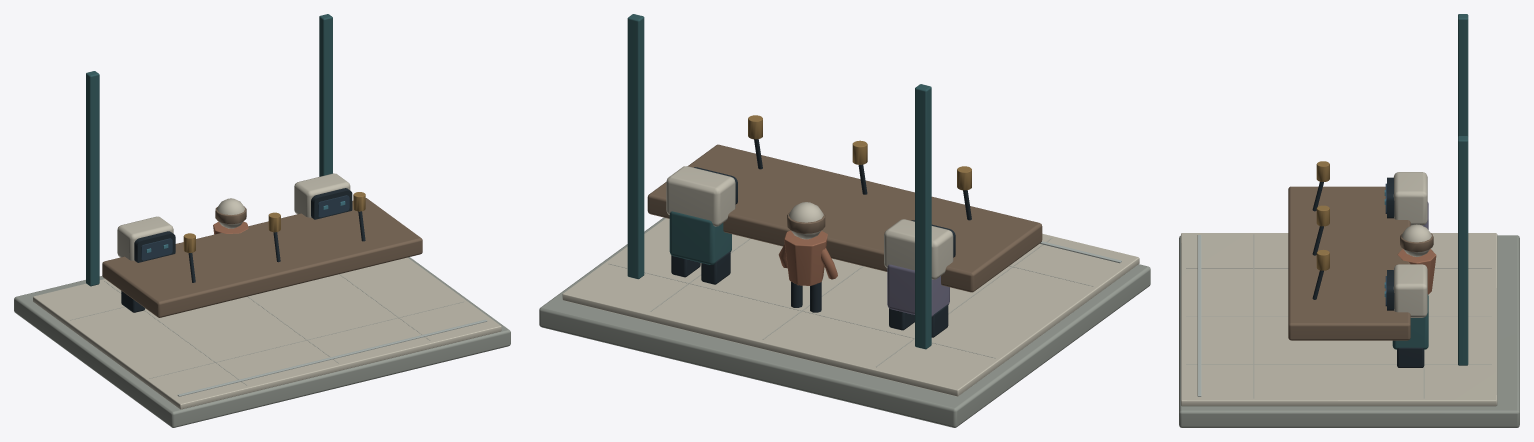
Rendered from idea-b39f0ffa.glb.
3 views of the same model, side by side, from view 1: azimuth 30°, elevation 25°; view 2: azimuth 150°, elevation 25°; view 3: azimuth 270°, elevation 25° (orthographic). The views are drawn at different scales.
Visible parts, largest first — view 1: AI Robot Podcast; view 2: AI Robot Podcast; view 3: AI Robot Podcast.
Boxes of the visible parts, <box> form: AI Robot Podcast: <box>14,14,510,427</box>; AI Robot Podcast: <box>539,14,1150,427</box>; AI Robot Podcast: <box>1179,14,1519,427</box>.
Size of the model in its own units: 4.8 by 3.32 by 3.9.
